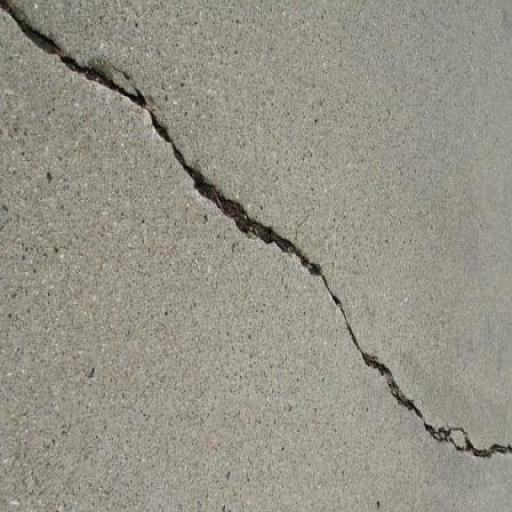spalling: (6, 4, 512, 466)
